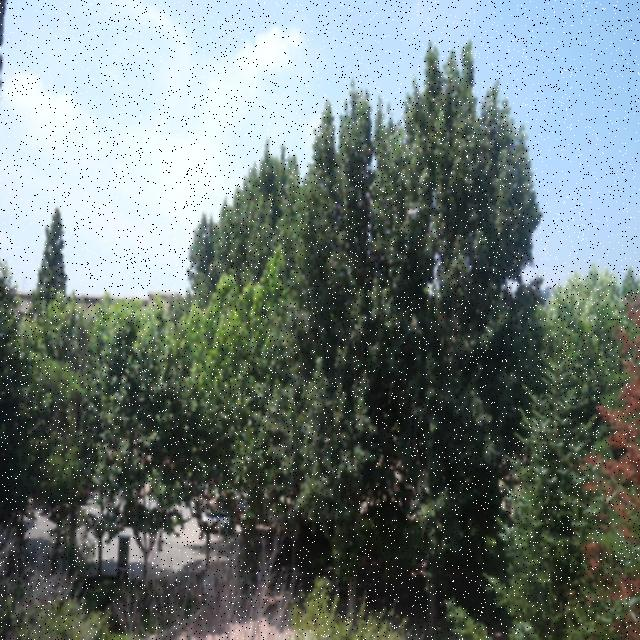UAV: (407, 208, 420, 218)
